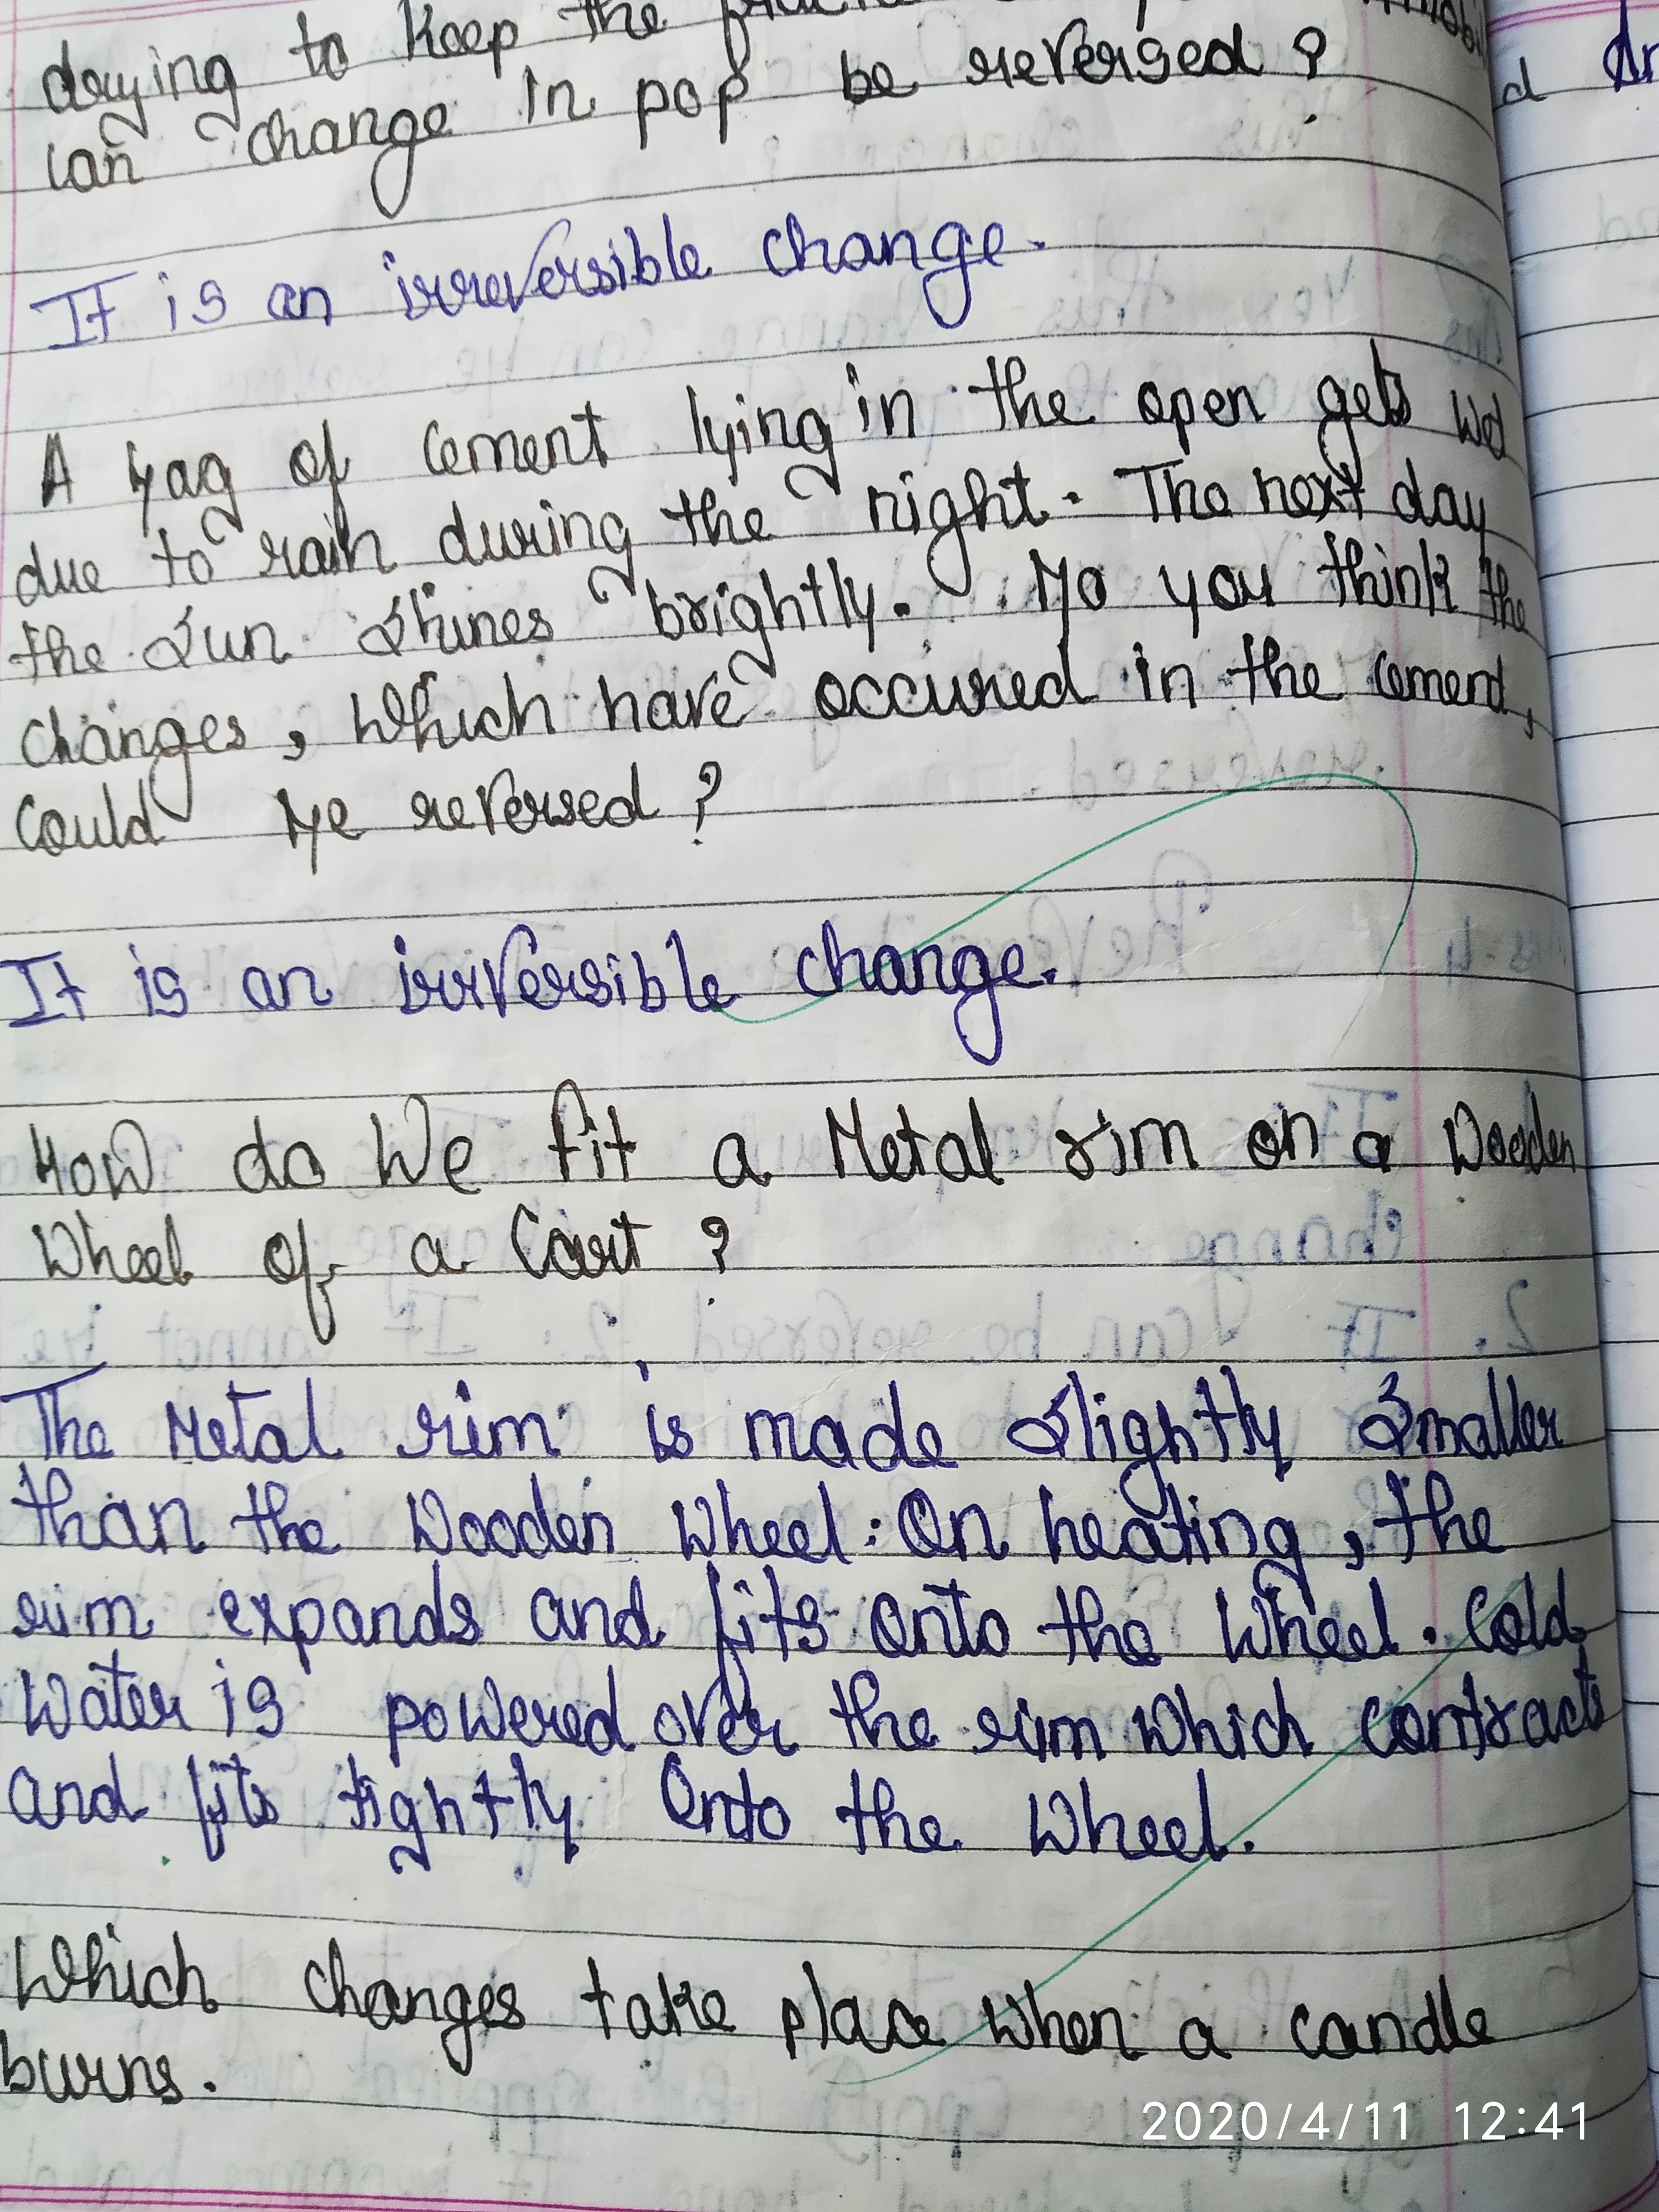a: (709, 1130, 760, 1190), (94, 1498, 146, 1554), (408, 1228, 453, 1280), (932, 1130, 976, 1184), (1176, 2013, 1222, 2062), (870, 944, 910, 998), (249, 1420, 295, 1467), (77, 1684, 115, 1733), (835, 230, 877, 273), (75, 725, 118, 766), (624, 1991, 659, 2041), (1429, 481, 1464, 529), (645, 688, 683, 732)
b: (643, 575, 687, 643), (627, 225, 664, 287), (838, 47, 873, 105)
d: (859, 1378, 910, 1474), (518, 1470, 561, 1561), (37, 33, 84, 115), (410, 1557, 448, 1648), (601, 759, 650, 829), (437, 498, 474, 566), (1410, 1989, 1446, 2057), (14, 538, 49, 608)
e: (441, 1132, 481, 1197), (575, 787, 603, 831), (1201, 387, 1227, 428), (1176, 38, 1204, 77), (1070, 44, 1096, 84)
f: (296, 1216, 338, 1346)
g: (948, 942, 1006, 1068), (920, 219, 974, 331), (1117, 1409, 1169, 1519), (924, 486, 974, 599), (145, 716, 197, 824), (437, 1980, 476, 2078)
h: (817, 916, 870, 996), (1079, 1775, 1129, 1855), (784, 209, 833, 272)
i: (453, 1378, 488, 1460), (155, 270, 181, 334)
l: (1187, 1764, 1230, 1864), (812, 1477, 854, 1566), (660, 209, 683, 282)
m: (1127, 1115, 1202, 1172), (742, 1407, 802, 1463), (486, 1411, 556, 1456), (82, 1594, 141, 1641), (465, 428, 521, 474), (1403, 664, 1445, 704)
n: (146, 1496, 197, 1555), (908, 941, 950, 993), (1364, 2008, 1410, 2055), (878, 387, 917, 439), (753, 402, 793, 448), (240, 618, 281, 664), (166, 51, 202, 99), (368, 1601, 404, 1646), (296, 284, 335, 324), (542, 423, 575, 469), (467, 608, 500, 650)
o: (896, 1486, 948, 1559), (260, 1228, 300, 1287), (1244, 1115, 1284, 1172), (812, 669, 849, 723), (284, 437, 322, 488), (1134, 378, 1168, 427), (185, 547, 218, 587)
p: (286, 1595, 326, 1677), (383, 1689, 422, 1771), (633, 75, 671, 153)
qqbslash: (1276, 2102, 1295, 2142), (1337, 2102, 1356, 2142)
qqcolon: (1514, 2101, 1528, 2141)
qqcoma: (281, 728, 310, 763)
qqfour: (1532, 2101, 1565, 2141), (1300, 2101, 1331, 2142)
qqfstop: (890, 599, 911, 620), (1241, 1838, 1256, 1855)
qqone: (1363, 2101, 1384, 2142), (1391, 2099, 1410, 2142), (1570, 2101, 1589, 2142), (1453, 2101, 1473, 2142)
qqtwo: (1208, 2101, 1234, 2142), (1481, 2101, 1507, 2141), (1141, 2101, 1168, 2141)
qqzero: (1239, 2101, 1269, 2142), (1173, 2101, 1202, 2142)
r: (413, 1402, 458, 1458), (256, 528, 295, 578), (587, 1231, 622, 1275)
u: (924, 671, 967, 716), (477, 517, 514, 564), (200, 624, 237, 665), (51, 554, 84, 597), (71, 813, 105, 850)
